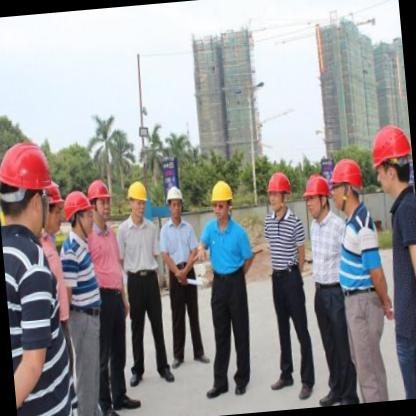helmet: (0, 138, 57, 234), (366, 124, 416, 200), (328, 156, 364, 216), (38, 178, 67, 242), (64, 192, 94, 242), (302, 172, 331, 219), (208, 178, 236, 226), (264, 170, 295, 213), (124, 178, 153, 221), (88, 176, 114, 223), (162, 178, 187, 222)
